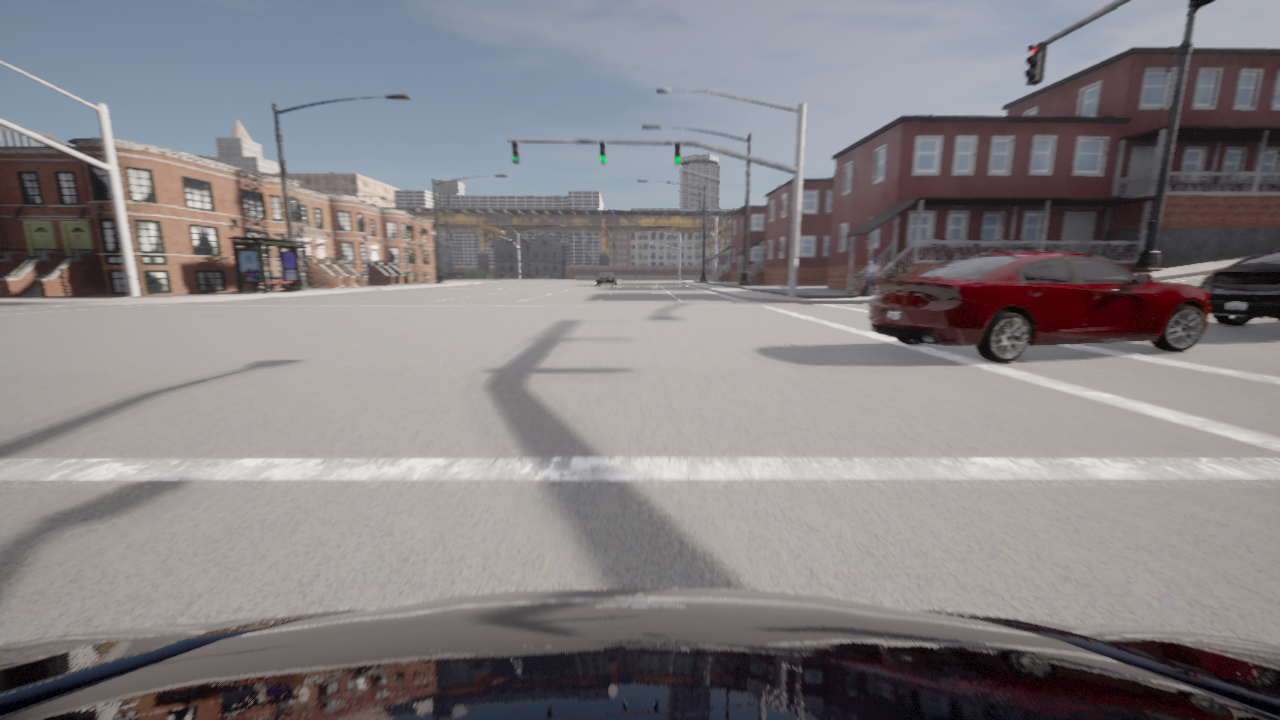cyclist: (0, 588, 1279, 719), (868, 250, 1210, 363), (1199, 248, 1279, 325), (595, 272, 615, 285)
pedestrian: (859, 252, 878, 295)
